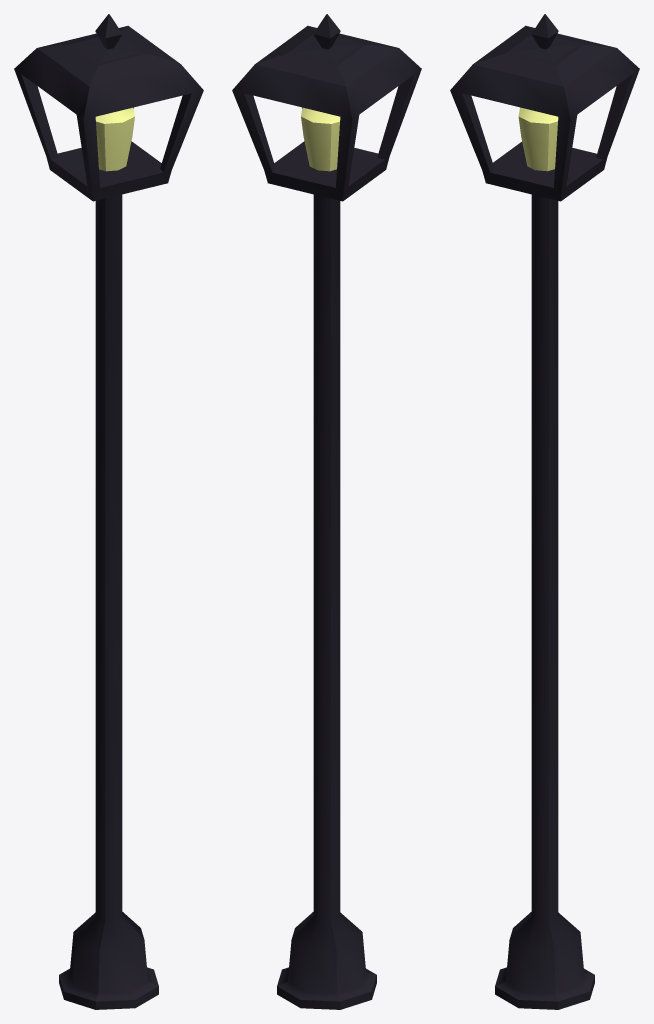
The model's file is lamp.fbx.
3 views of the same model, side by side, from view 1: azimuth 30°, elevation 25°; view 2: azimuth 150°, elevation 25°; view 3: azimuth 330°, elevation 25° (orthographic).
Visible parts, largest first — view 1: LAMP, pCube31; view 2: LAMP, pCube31; view 3: LAMP, pCube31.
Part boxes in pixels (<box>): LAMP: <box>14,14,203,1009</box>; pCube31: <box>95,107,134,171</box>; LAMP: <box>232,14,421,1009</box>; pCube31: <box>301,107,340,171</box>; LAMP: <box>450,14,639,1009</box>; pCube31: <box>518,107,558,171</box>.
Size of the model in its own units: 5.34 by 41.3 by 5.34.
